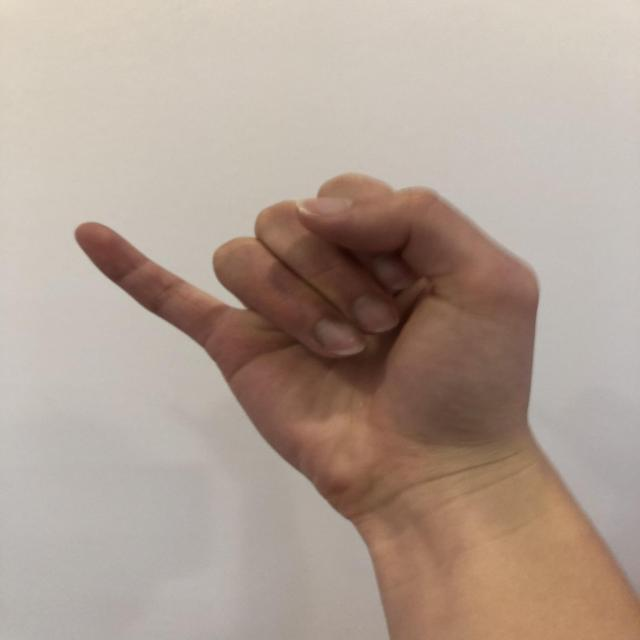J: (60, 161, 588, 523)
